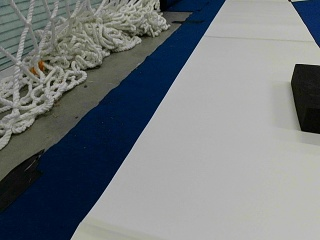block: (291, 64, 319, 134)
